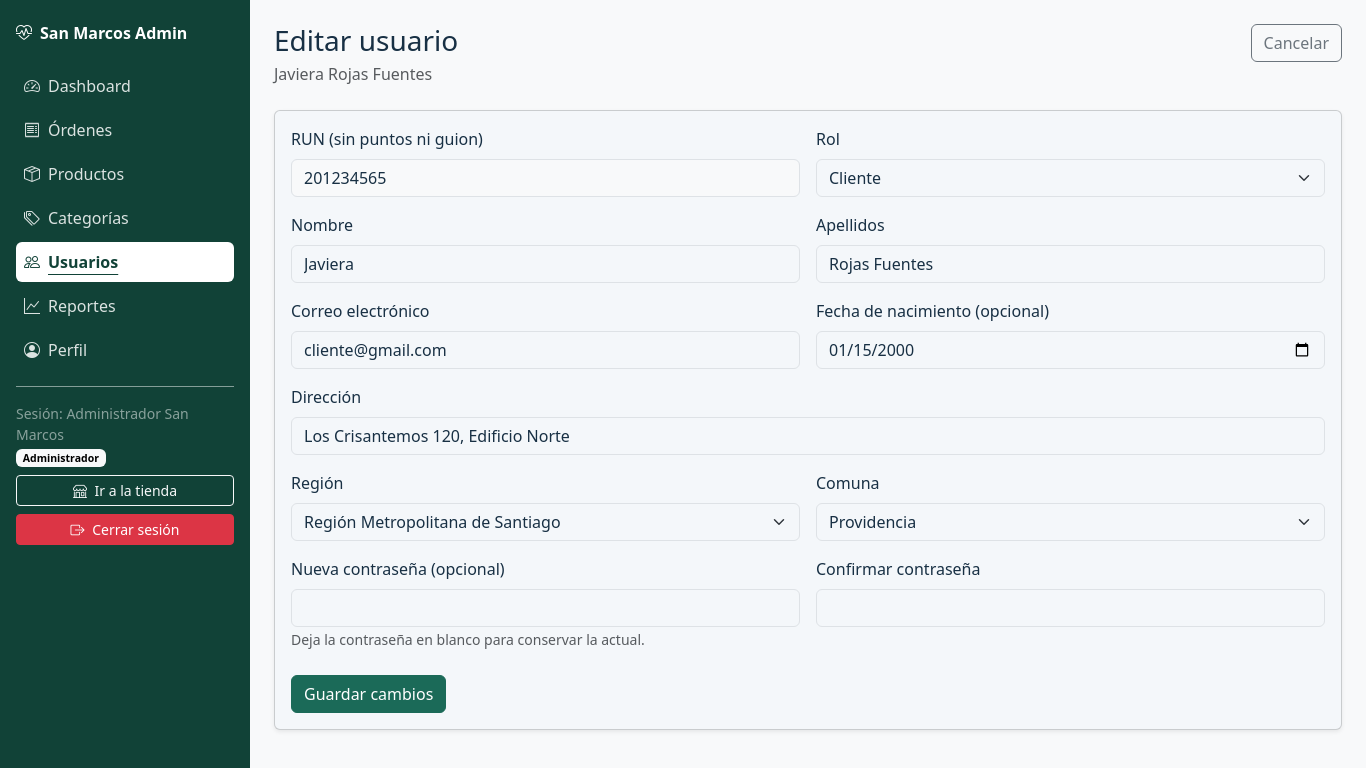
Test: Administración de usuarios › edita el rol de un usuario sin pedir una nueva contraseña
Select "Vendedor" in the dropdown labelled "Rol" at (1070, 178), box x1=816 y1=159 x2=1325 y2=197
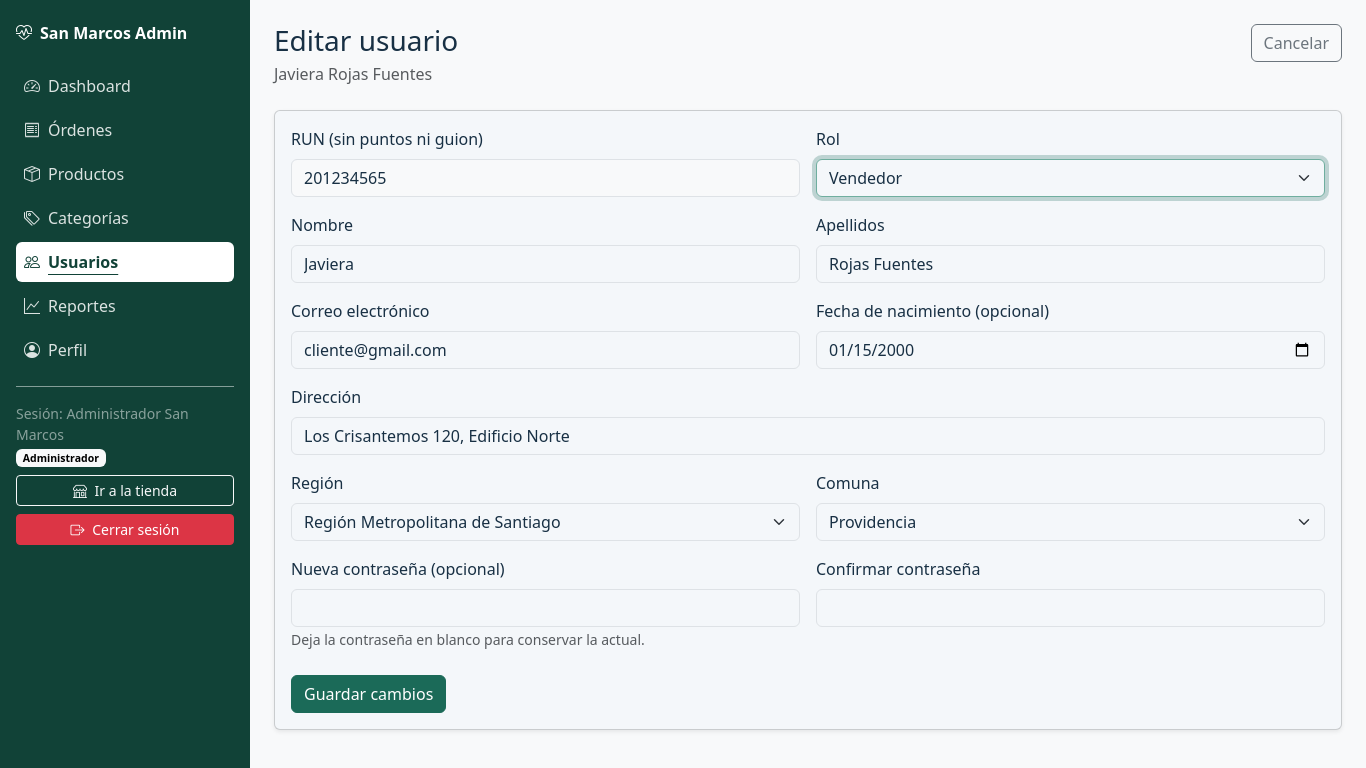
Click the button "Guardar cambios" at (369, 694), box x1=291 y1=675 x2=446 y2=713
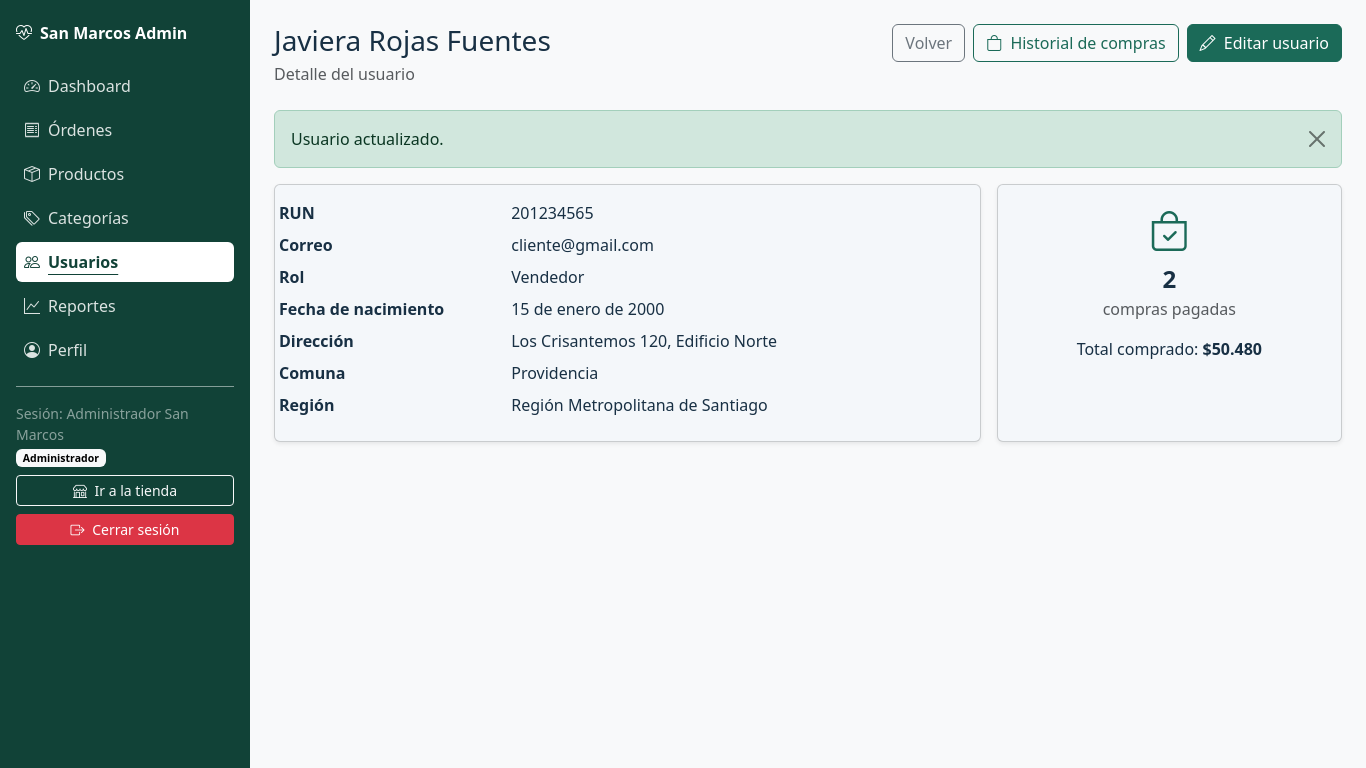
Expected: the text "Usuario actualizado." is shown, x1=274 y1=110 x2=1342 y2=168
